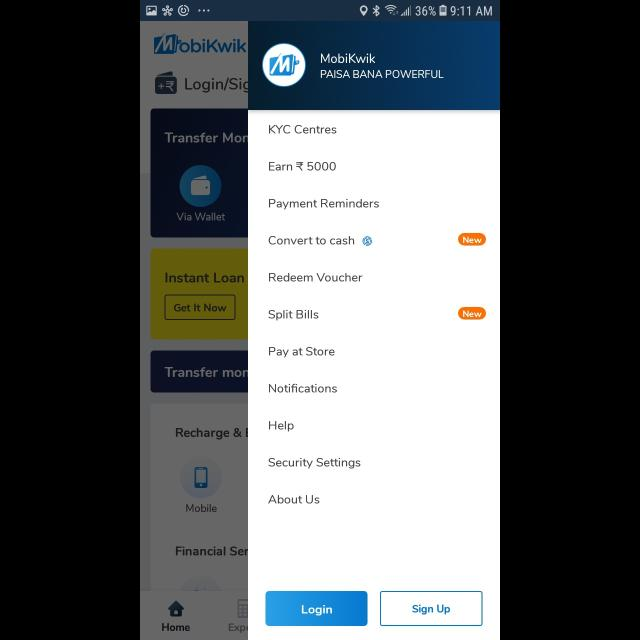icon: (362, 236, 372, 246)
image: (262, 44, 306, 88)
panel: (248, 22, 500, 640)
text: (269, 198, 379, 210), (321, 70, 444, 78), (269, 272, 363, 282), (268, 458, 360, 468), (269, 347, 335, 358), (269, 236, 355, 244), (269, 383, 337, 393), (270, 162, 336, 172), (269, 126, 337, 134), (321, 54, 375, 64), (268, 494, 320, 504), (269, 310, 319, 320), (270, 421, 294, 432)
textbutton: (266, 590, 368, 626), (381, 592, 484, 626), (458, 234, 486, 246), (458, 308, 486, 320)
uppertaskbar: (140, 1, 500, 22)
